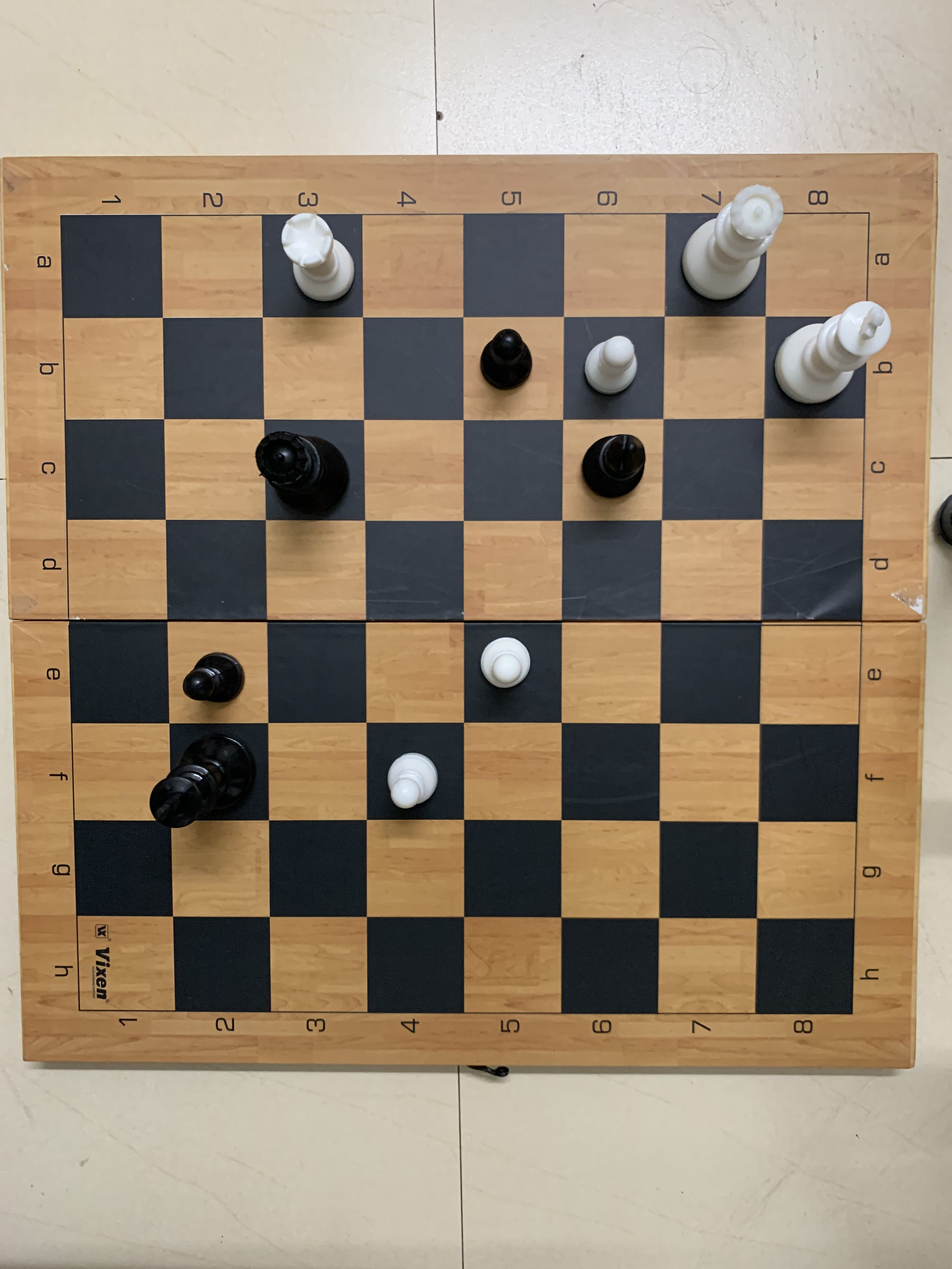black_king: (142, 729, 263, 832)
black_pawn: (574, 430, 654, 505), (475, 327, 542, 397), (181, 646, 249, 713)
black_queen: (251, 423, 362, 522)
white_king: (778, 309, 896, 409)
white_pawn: (578, 336, 647, 400), (380, 746, 449, 810), (478, 629, 537, 694)
white_queen: (674, 189, 793, 308)
white_rook: (271, 205, 367, 306)
